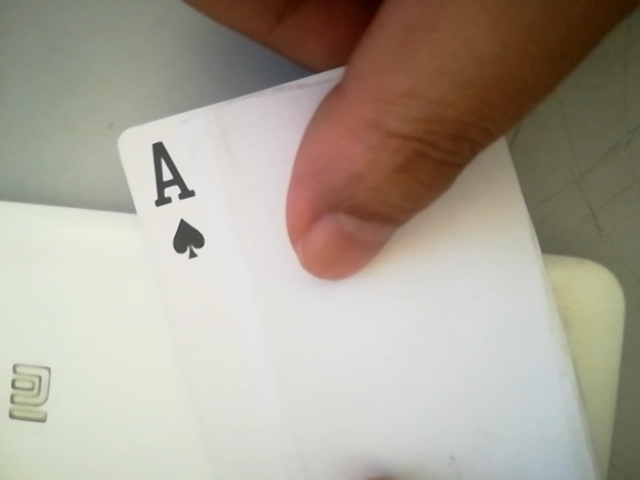ht a: (136, 128, 216, 273)
